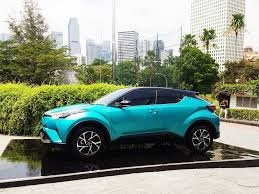mobil: (36, 86, 225, 160)
